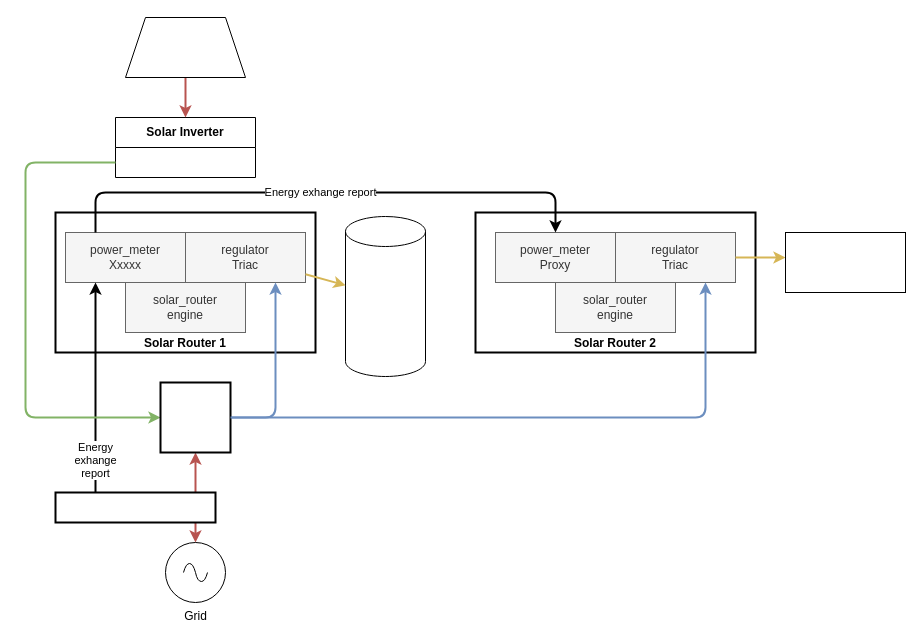
Image size: 923x641. Some labels were removed from this diagram. Each missing label, with the centre of its shape:
"Anti frost system" belongs at point (845, 262).
"Home Electrical Panel" belongs at point (195, 417).
"Solar Panels" belongs at point (185, 47).
"Water Heater" belongs at point (385, 296).
"Xxxxx Power Meter" belongs at point (135, 507).
